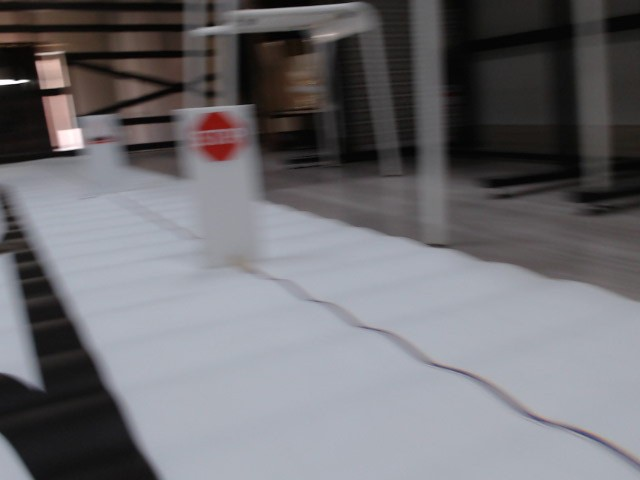Stop: (192, 113, 245, 161)
